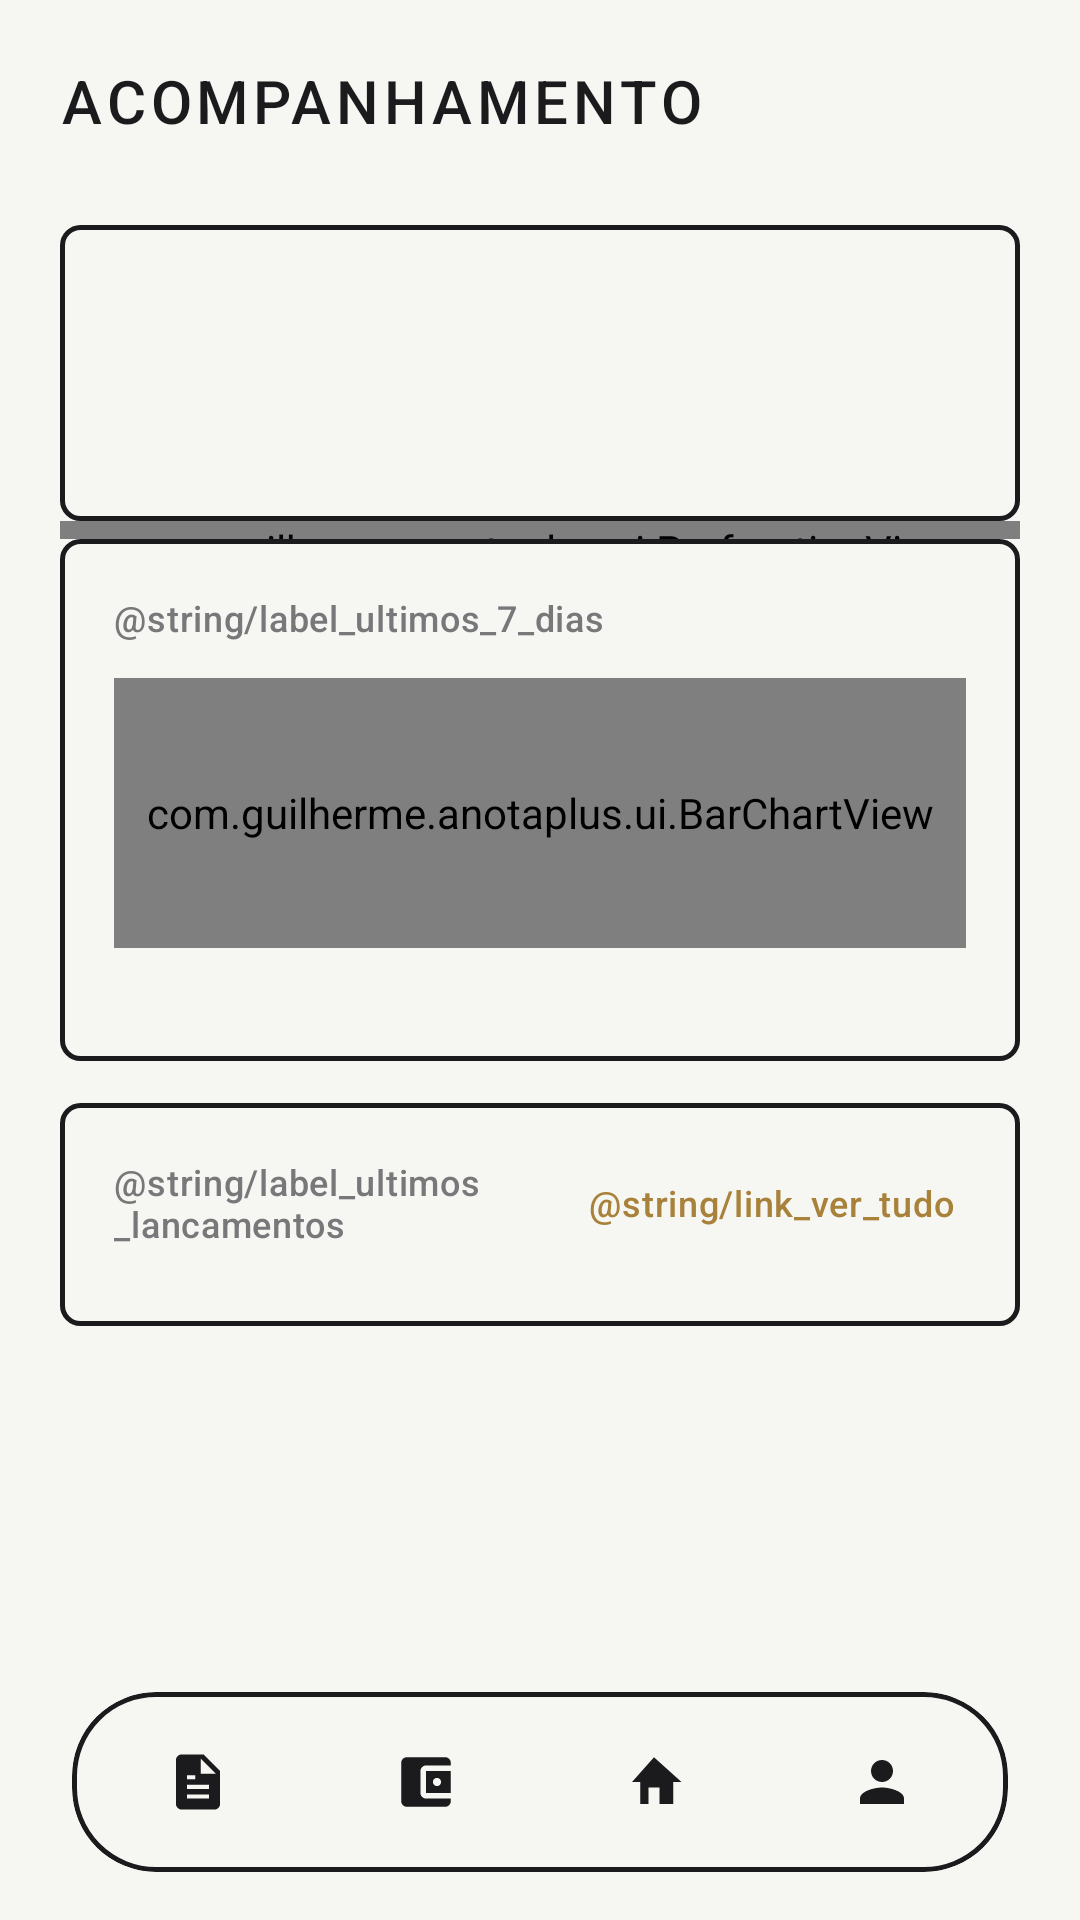

Screen size 1080 x 1920. Icon name, then its center in pixels as (x,y):
Anotações: (198,1782)
Financeiro: (426,1782)
Perfil: (882,1782)
